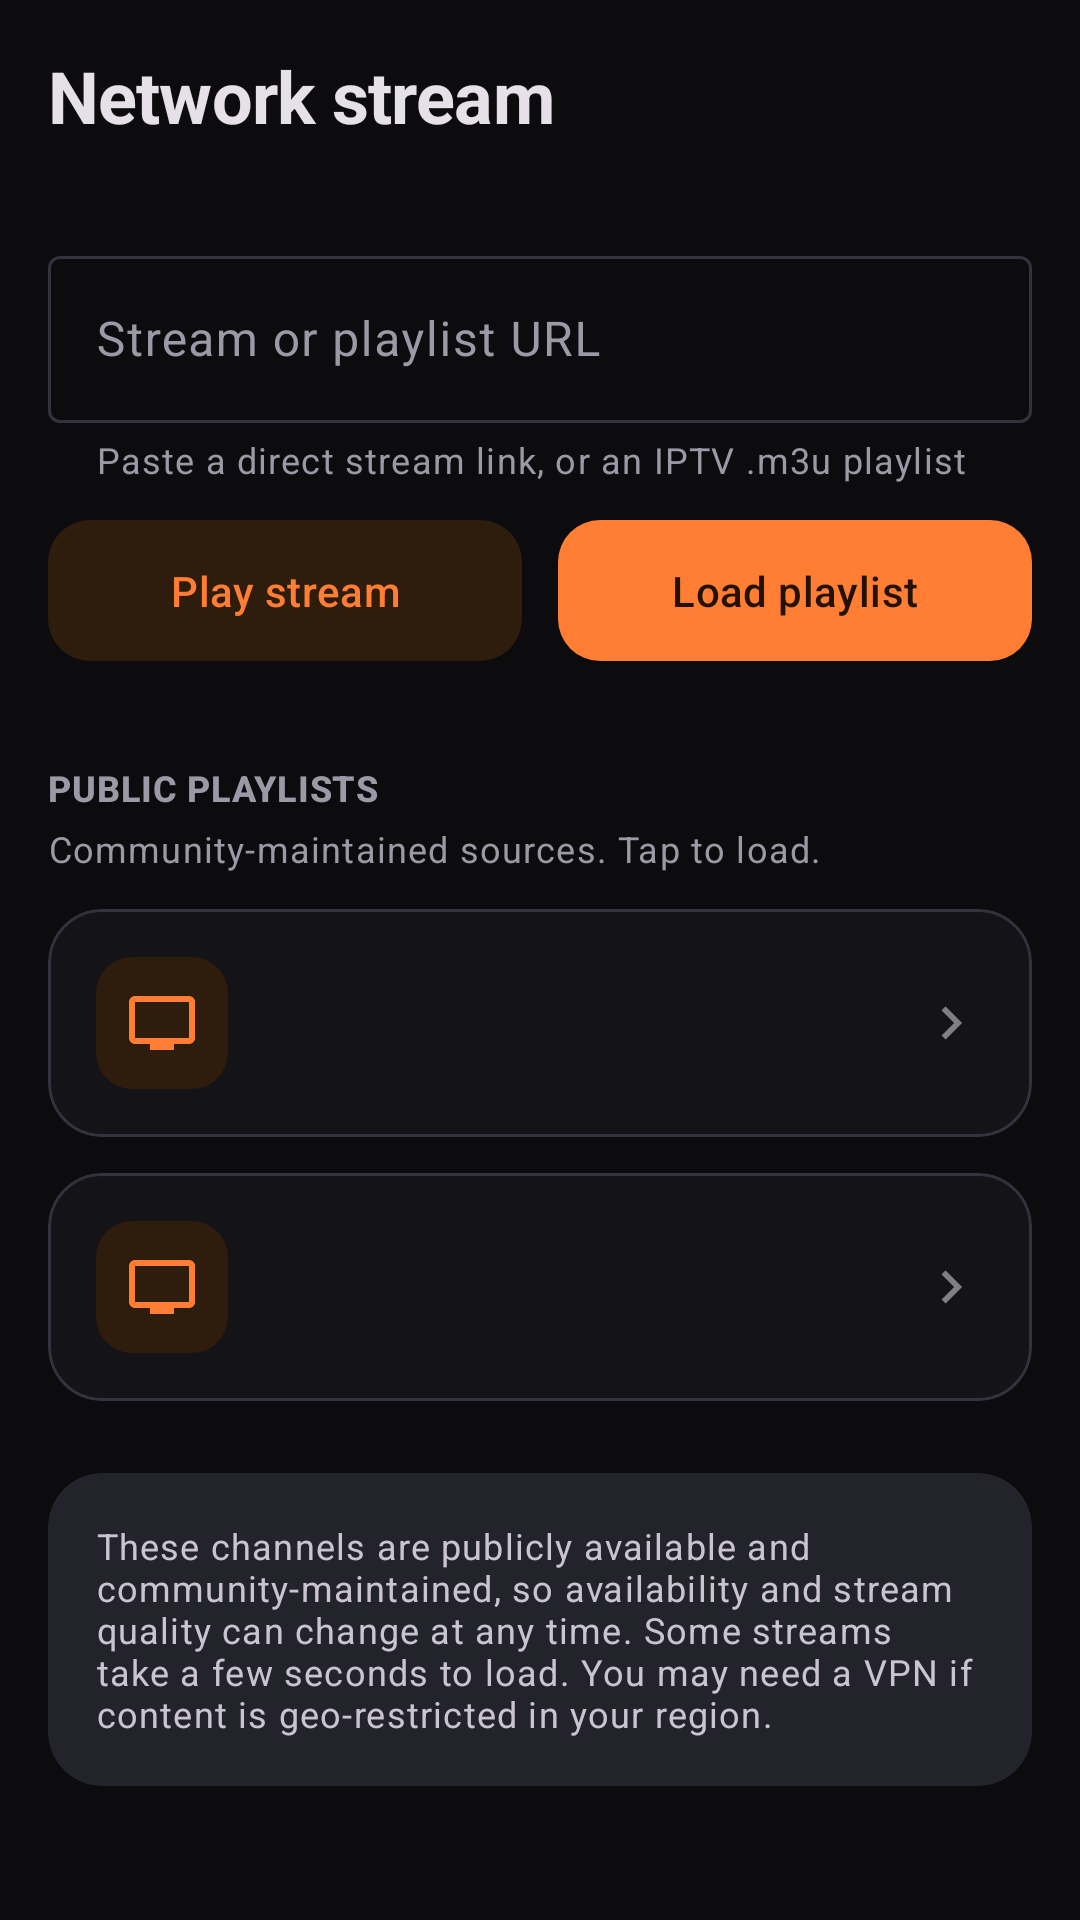

Screen size 1080 × 1920. Icon name, then its box in pixels as box(x1, y1, x2, y2):
chevron: box(941, 1006, 962, 1040), box(941, 1270, 962, 1304)
